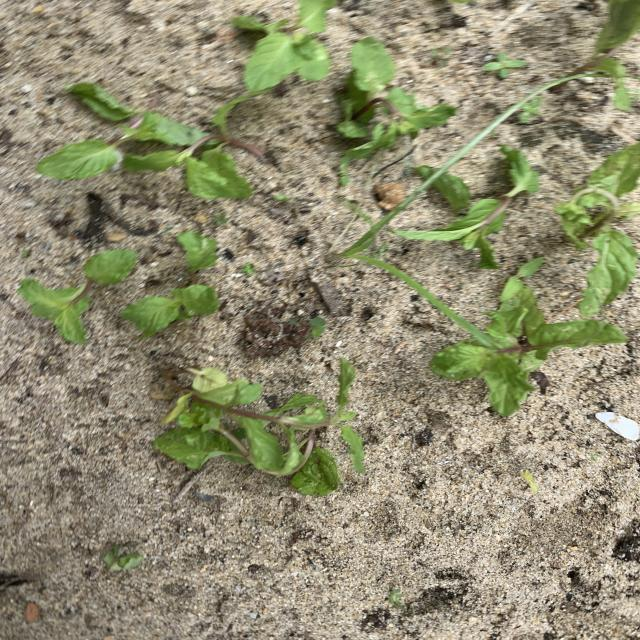crop: (155, 359, 362, 494), (430, 288, 627, 416), (38, 87, 260, 197), (394, 146, 539, 269), (555, 143, 640, 317), (337, 38, 454, 158), (20, 250, 135, 342), (231, 1, 333, 94), (122, 285, 218, 339), (578, 1, 639, 73), (178, 231, 216, 282)
weed: (340, 80, 561, 337), (500, 257, 544, 303), (103, 544, 142, 571), (484, 53, 524, 79), (518, 96, 542, 123), (301, 317, 324, 342), (522, 472, 538, 491), (389, 590, 404, 609), (214, 214, 227, 224), (243, 264, 255, 274)
